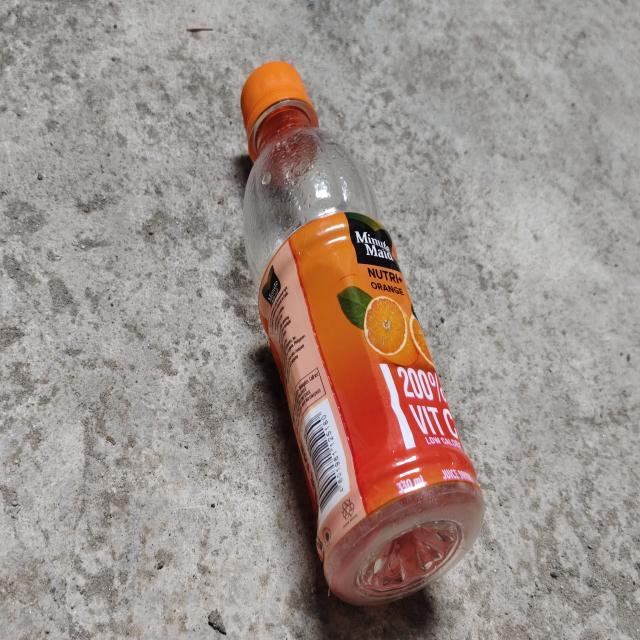Bottle: (241, 61, 485, 605)
